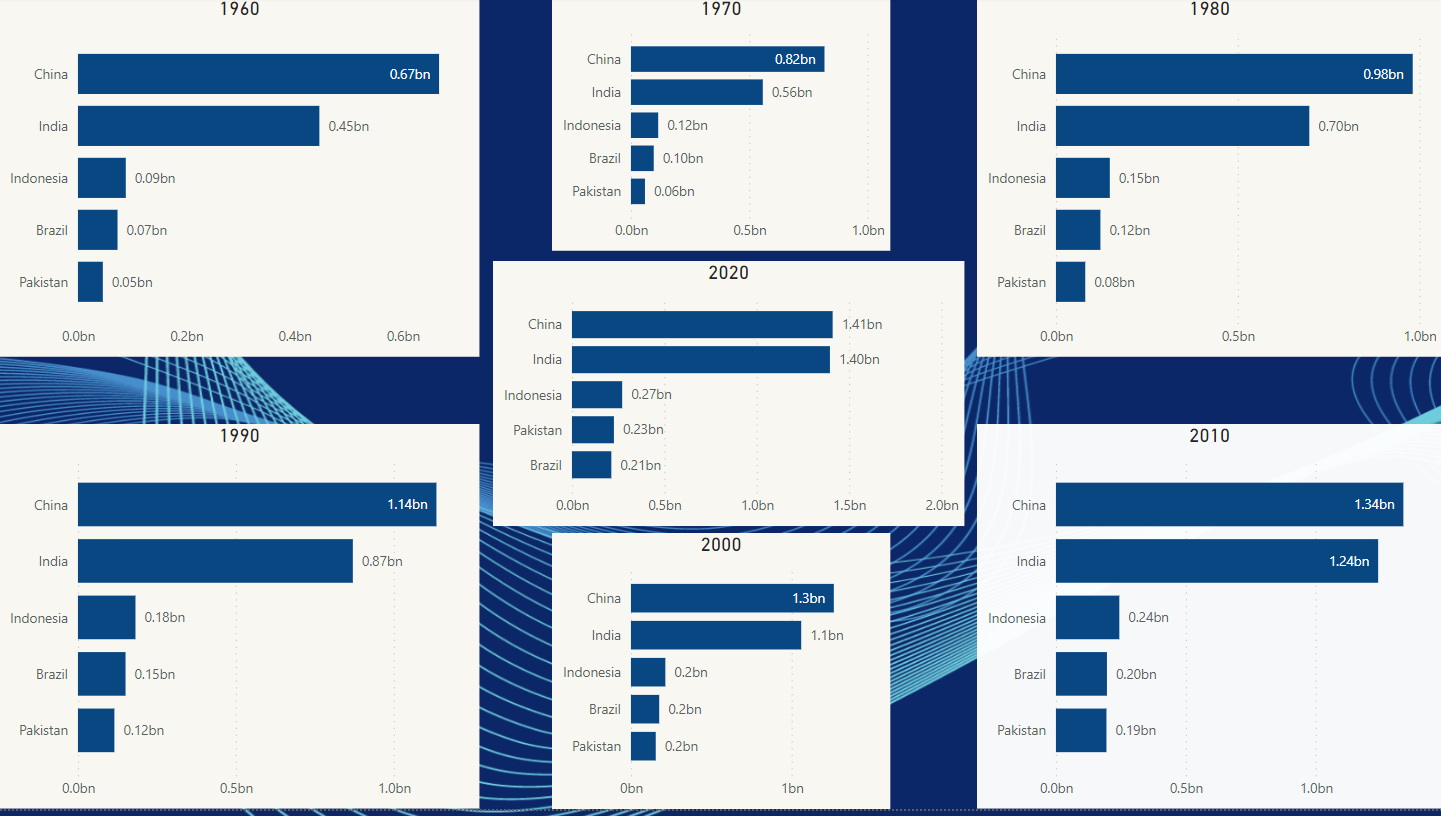

Layout of this report page (visuals, bound fields, positions):
{"tool":"powerbi","page":{"name":"Page 2","canvas":[1280,720],"ordinal":1},"visuals":[{"type":"barChart","title":"1960","fields":{"Category":["Official Data.Country Name"],"Y":["Sum(Official Data.1960)"]},"box":[0,0,426,319],"z":0},{"type":"barChart","title":"1970","fields":{"Category":["Official Data.Country Name"],"Y":["Sum(Official Data.1970)"]},"box":[490.3,0,299.7,225.2],"z":1000},{"type":"barChart","title":"1990","fields":{"Category":["Official Data.Country Name"],"Y":["Sum(Official Data.1990)"]},"box":[0,378.4,426,341.4],"z":2000},{"type":"barChart","title":"1980","fields":{"Category":["Official Data.Country Name"],"Y":["Sum(Official Data.1980)"]},"box":[867.6,0,412.4,319],"z":3000},{"type":"barChart","title":"2000","fields":{"Category":["Official Data.Country Name"],"Y":["Sum(Official Data.2000)"]},"box":[490.3,475.3,299.7,244.7],"z":4000},{"type":"barChart","title":"2010","fields":{"Category":["Official Data.Country Name"],"Y":["Sum(Official Data.2010)"]},"box":[867.6,378.4,412.4,341.4],"z":5000},{"type":"barChart","title":"2020","fields":{"Category":["Official Data.Country Name"],"Y":["Sum(Official Data.2020)"]},"box":[438,234.1,417.6,235],"z":6000}]}

Visuals, with their boxes in screenshot pixels (x1, y1, x2, y2), scaled from the page's 1280x720 canvas onto the 1441x816 screenshot:
"1960" barChart: [0, 0, 480, 362]
"1970" barChart: [552, 0, 889, 255]
"1990" barChart: [0, 429, 480, 815]
"1980" barChart: [977, 0, 1440, 362]
"2000" barChart: [552, 539, 889, 815]
"2010" barChart: [977, 429, 1440, 815]
"2020" barChart: [493, 265, 963, 532]
